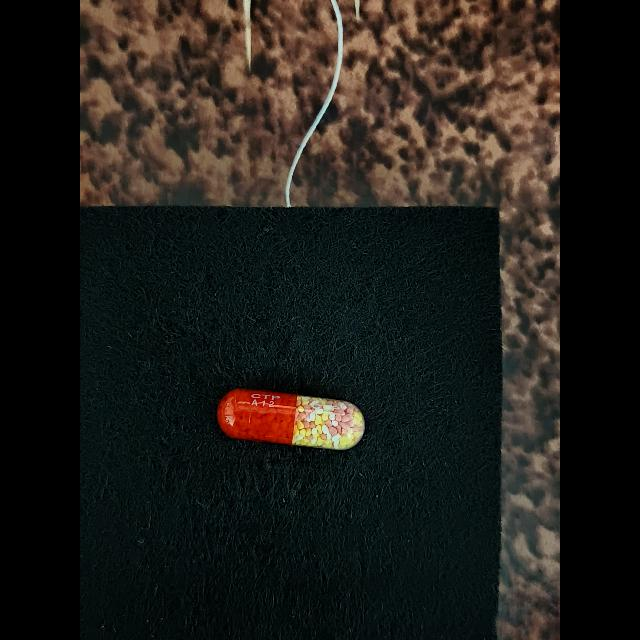Intact Capsule: (217, 389, 365, 450)
